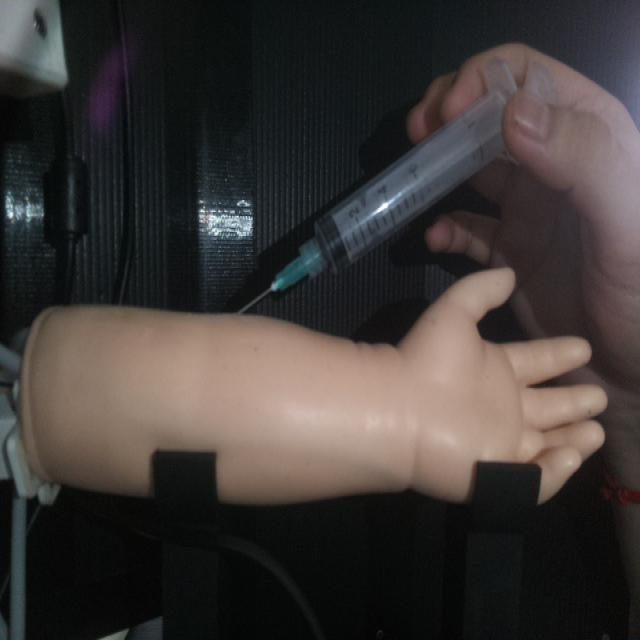Outside: (231, 56, 525, 315)
